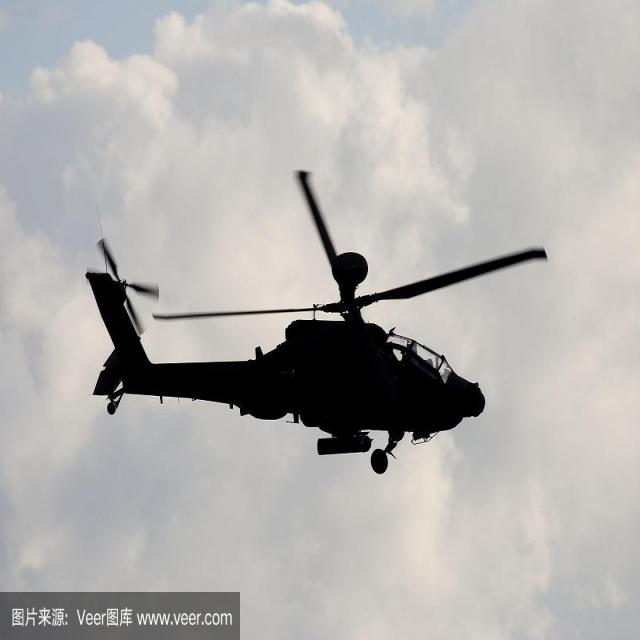MIL_HELO: (83, 167, 548, 477)
